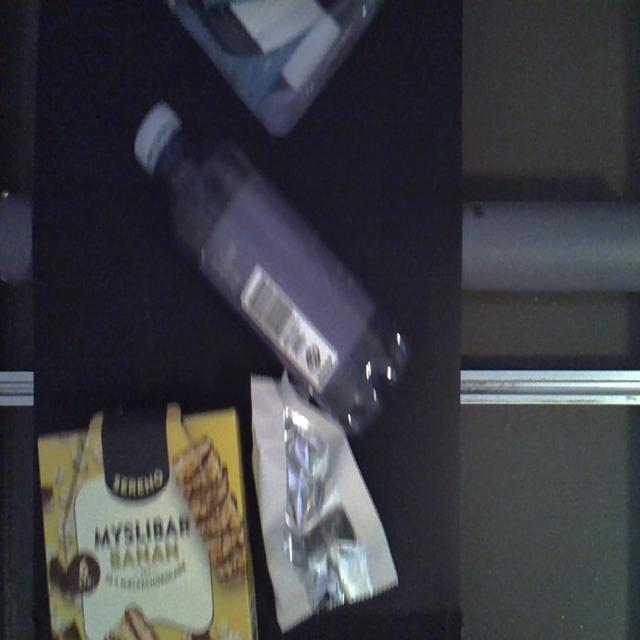bottle-plastic: (130, 95, 410, 437)
carton: (36, 398, 260, 637)
mixed-plastics: (158, 0, 388, 137)
packaging-soft-plastic: (248, 367, 398, 639)
